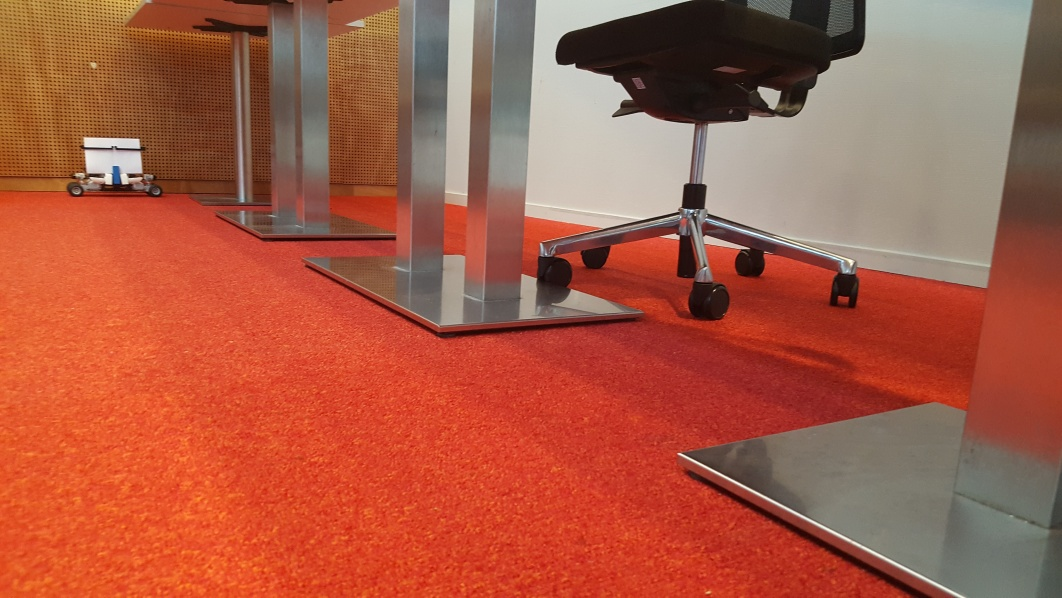car: (66, 136, 161, 201)
